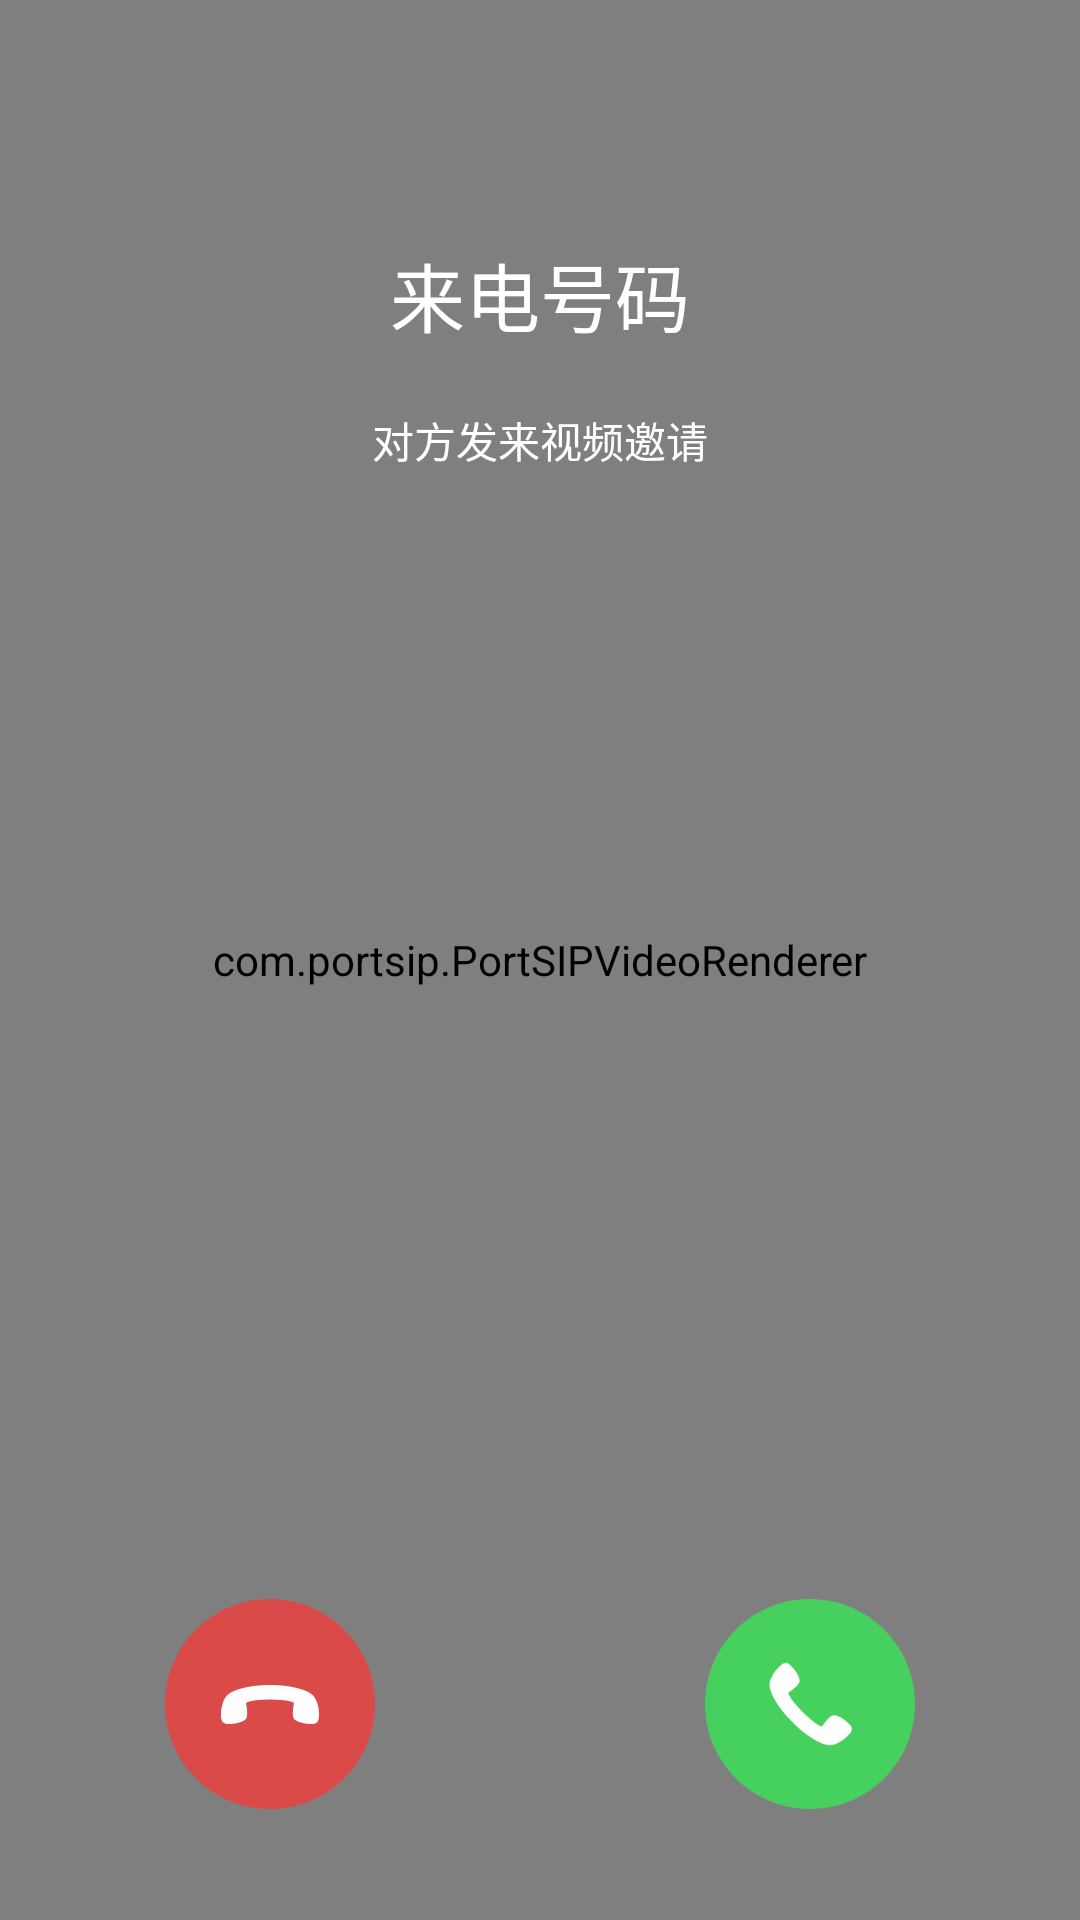

Screen size 1080*1920. Icon name, then its center in pixels as point (x, y):
guaduan: point (270, 1704)
jieting: point (810, 1704)
